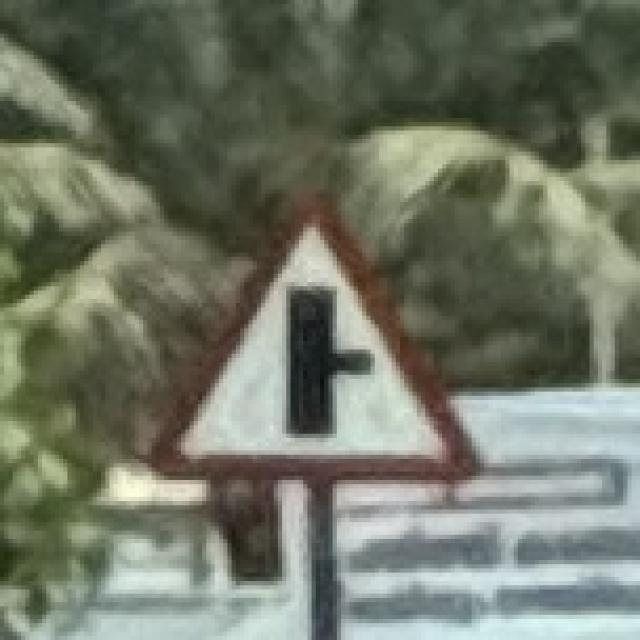SIDE_ROAD_RIGHT: (130, 171, 491, 496)
